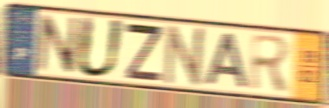A: (203, 31, 251, 91)
N: (162, 23, 210, 90), (34, 12, 82, 77)
R: (248, 32, 293, 94)
U: (73, 14, 128, 80)
Z: (123, 20, 164, 84)
